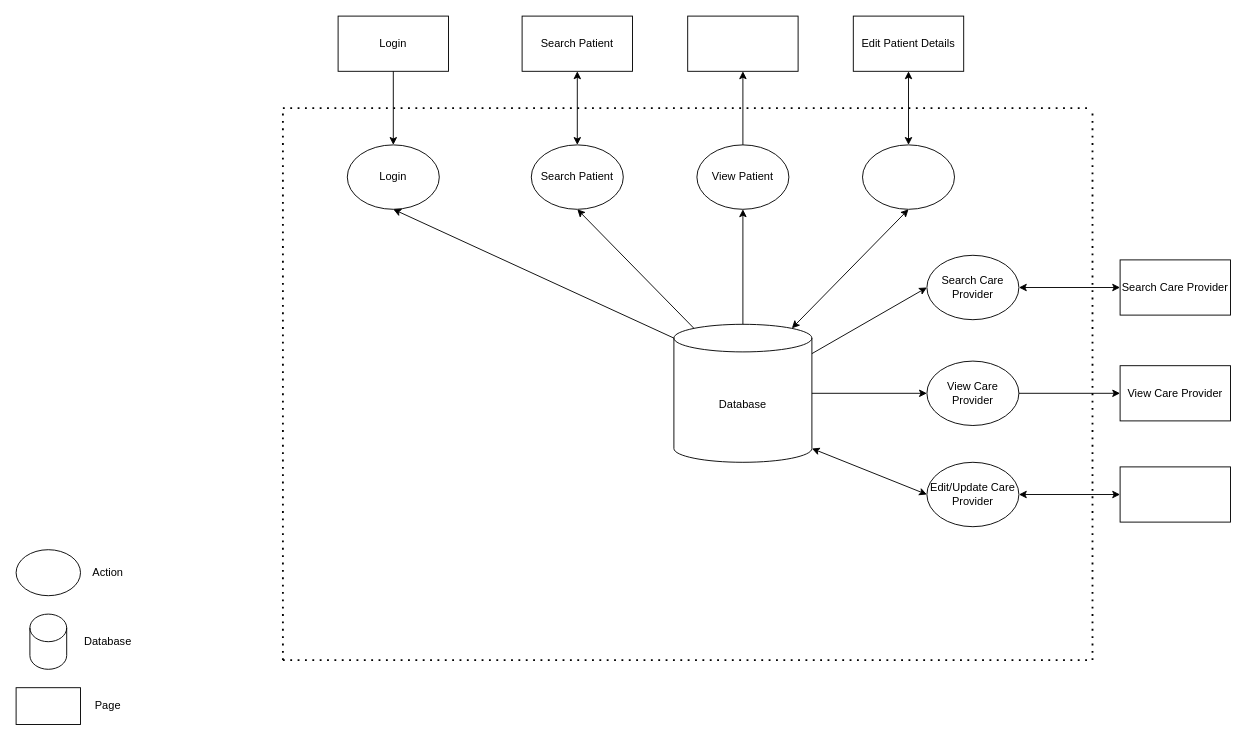
This 1247x741 diagram has some shape labels left out. The centre of each missing label's shape, as x and y in pixels:
"Edit Care Provider" belongs at pixel 1174 494.
"Edit/Update Patient" belongs at pixel 908 176.
"View Patient Details" belongs at pixel 742 43.
